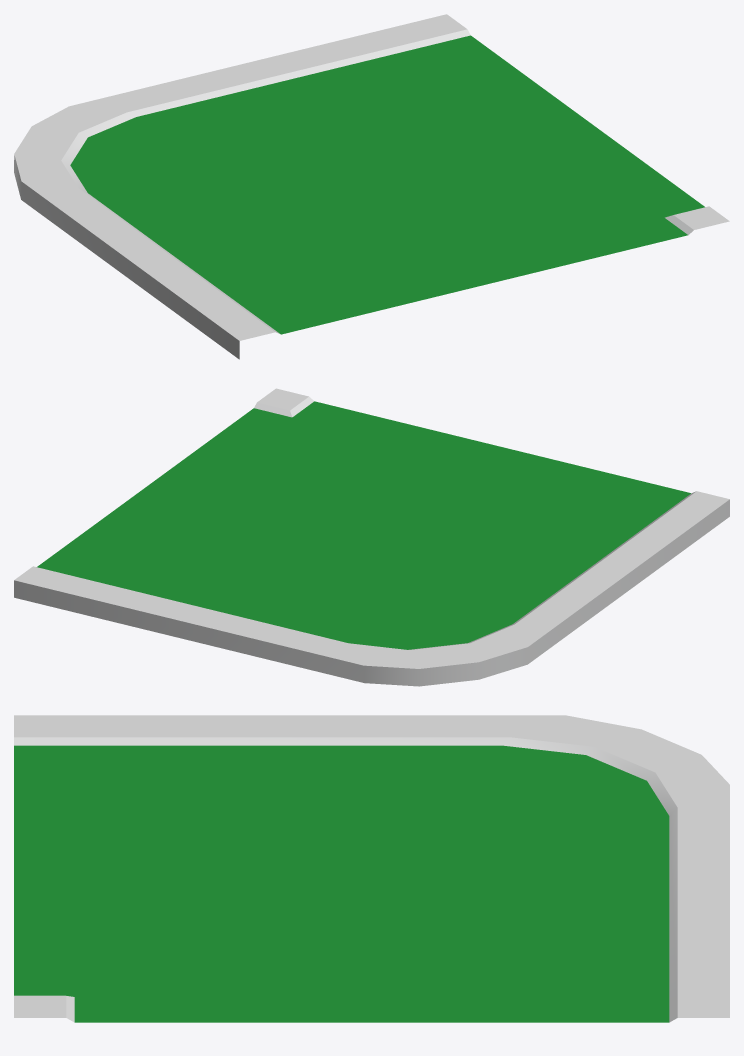
The model's file is GrassBed_1_A_10.glb.
3 renders of one model, top to bottom at view 1: azimuth 30°, elevation 25°; view 2: azimuth 150°, elevation 25°; view 3: azimuth 270°, elevation 25°, orthographic. The views are drawn at different scales.
Parts seen in each view (by area): view 1: GrassBed_1_A_10; view 2: GrassBed_1_A_10; view 3: GrassBed_1_A_10.
Boxes of the visible parts, bbox=[...] form: GrassBed_1_A_10: bbox=[14, 14, 729, 359]; GrassBed_1_A_10: bbox=[14, 388, 729, 686]; GrassBed_1_A_10: bbox=[14, 715, 729, 1022].
Bounding box in the file's own units: 2 × 0.0732 × 2.
Materials: 1 (1 with a texture image).
